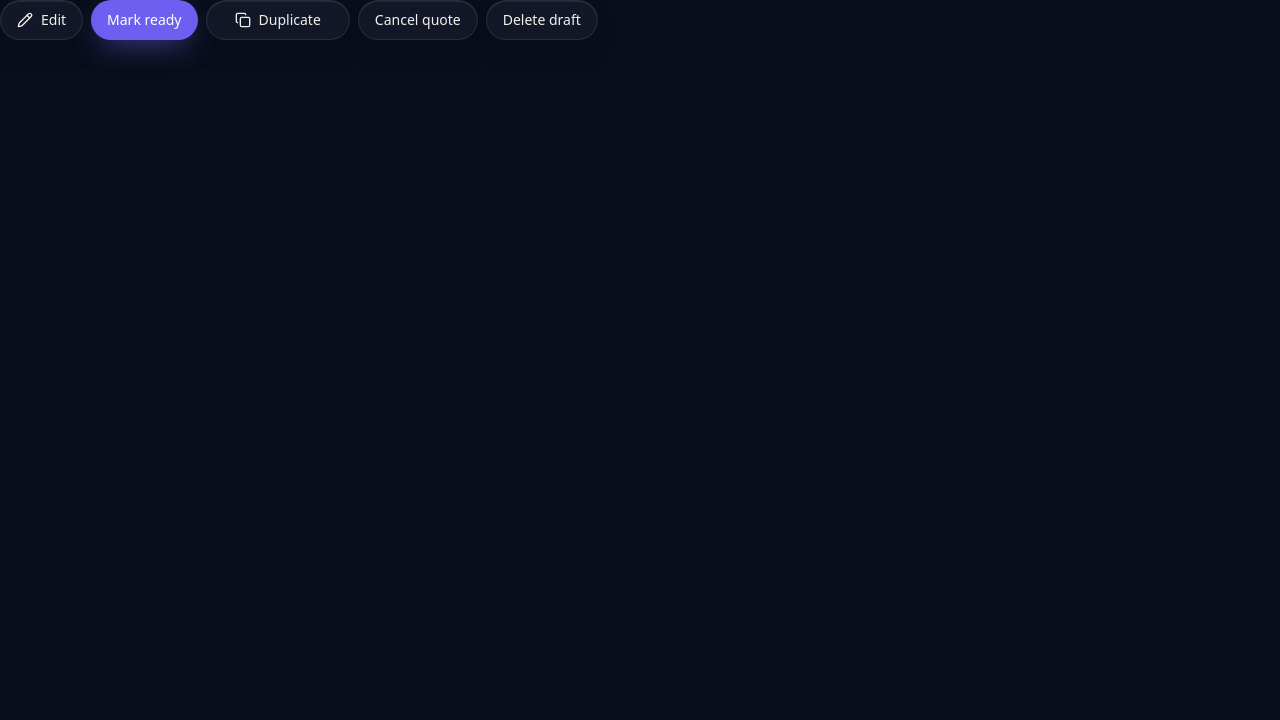
Test: Quote status actions › recovers from a thrown network error
Click the button "Mark ready" at [144, 20], box [91, 0, 198, 40]
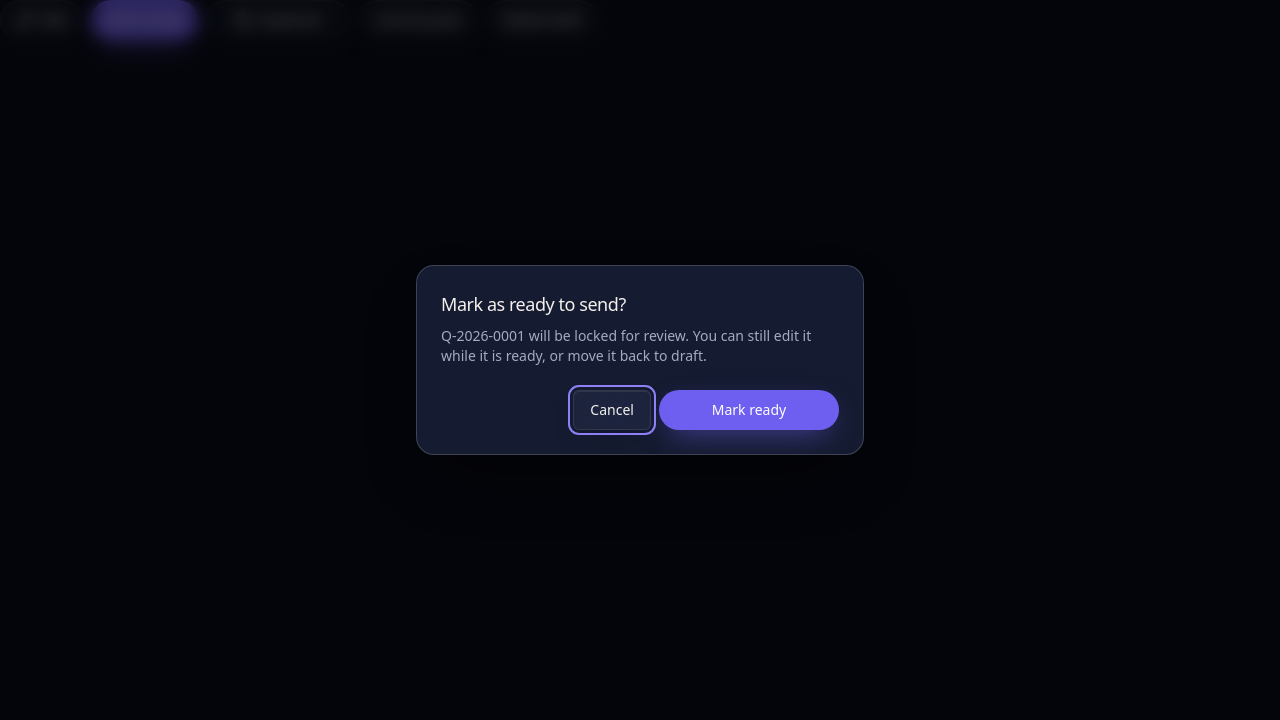
Click the button "Mark ready" at [749, 410], box [659, 390, 839, 430]
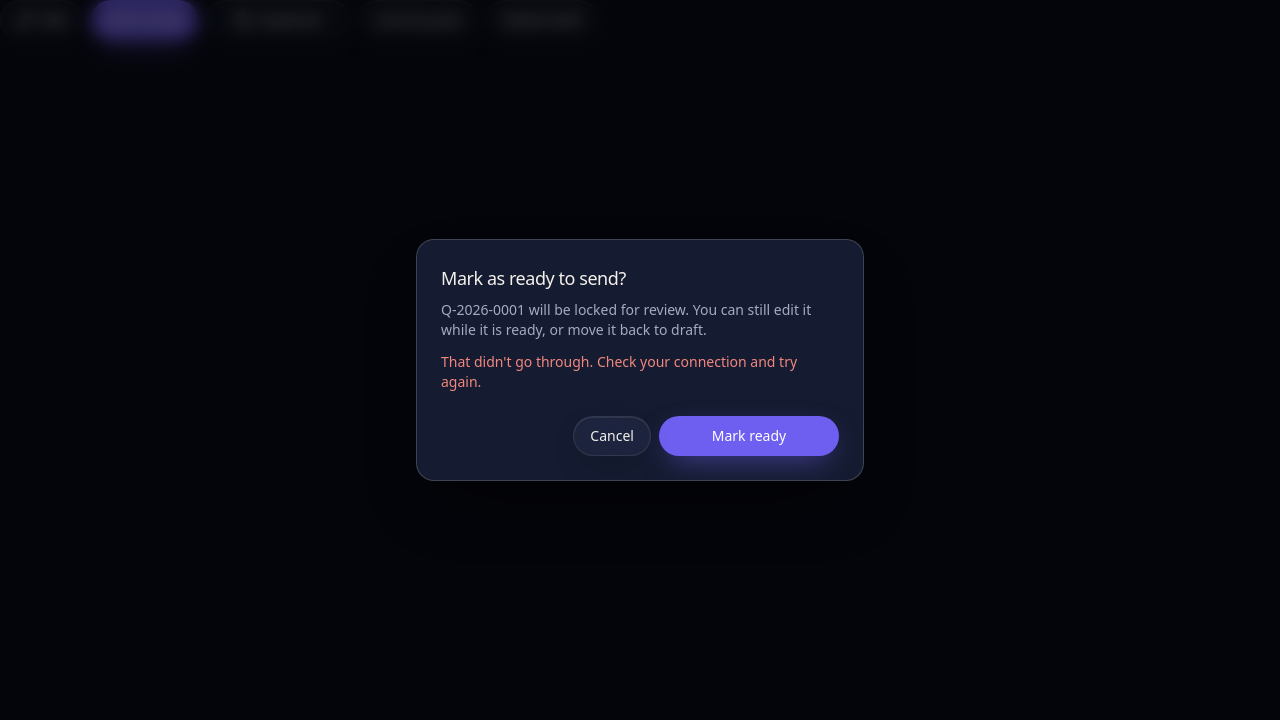
Result: the button "Mark ready" is enabled at [659, 416, 839, 456]
Result: the message shows "connection" at [441, 352, 797, 391]
